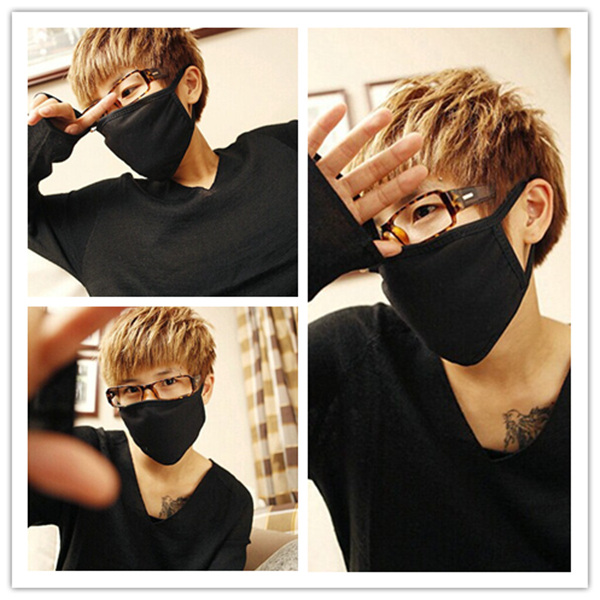face_mask: (365, 129, 510, 355), (87, 55, 180, 173), (114, 347, 200, 452)
